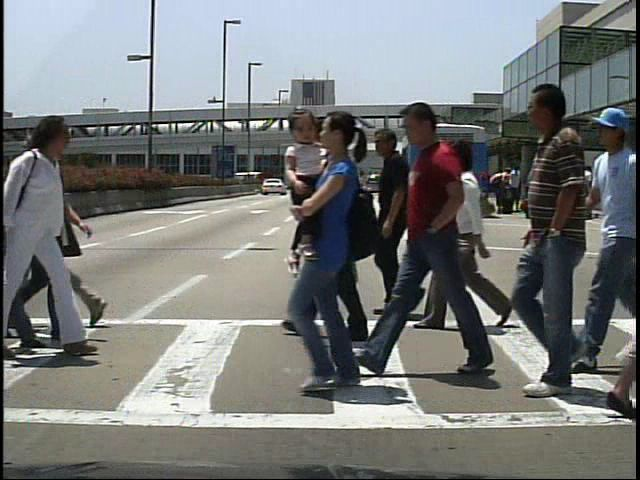person: (512, 84, 602, 409), (397, 98, 497, 370), (0, 113, 93, 366), (289, 120, 392, 347), (22, 111, 111, 335), (436, 138, 511, 339), (360, 130, 433, 322), (493, 164, 512, 217), (582, 168, 602, 218), (506, 166, 525, 215)
